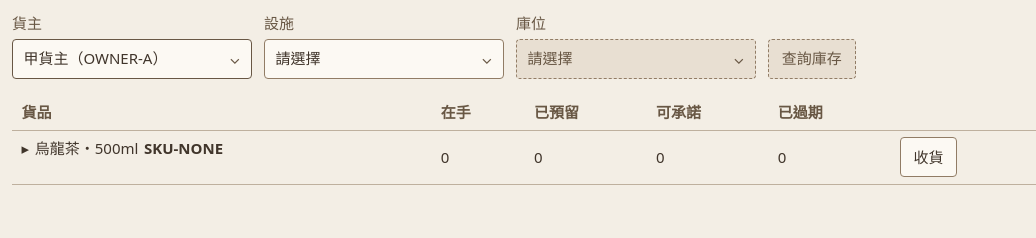
Test: StockPanel 的展開 › 這個倉沒有這個規格時展開要明說，不留空白表格
What coordinates should you click on to do the following:
click the button "▸ 烏龍茶・500ml SKU-NONE"
I would click on:
 (122, 157)
Its box is 22,137 -> 223,177.
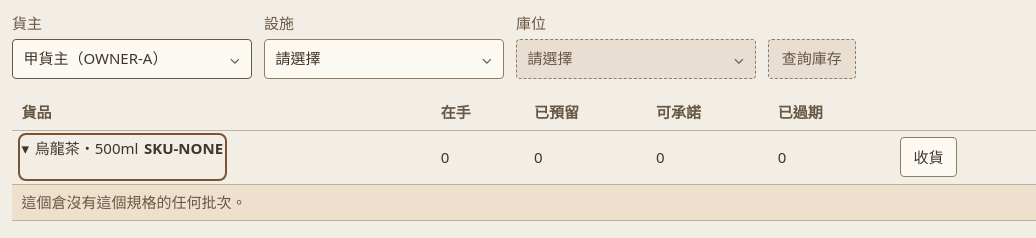
Result: the text "這個倉沒有這個規格的任何批次。" is shown at 22,192 -> 247,212
